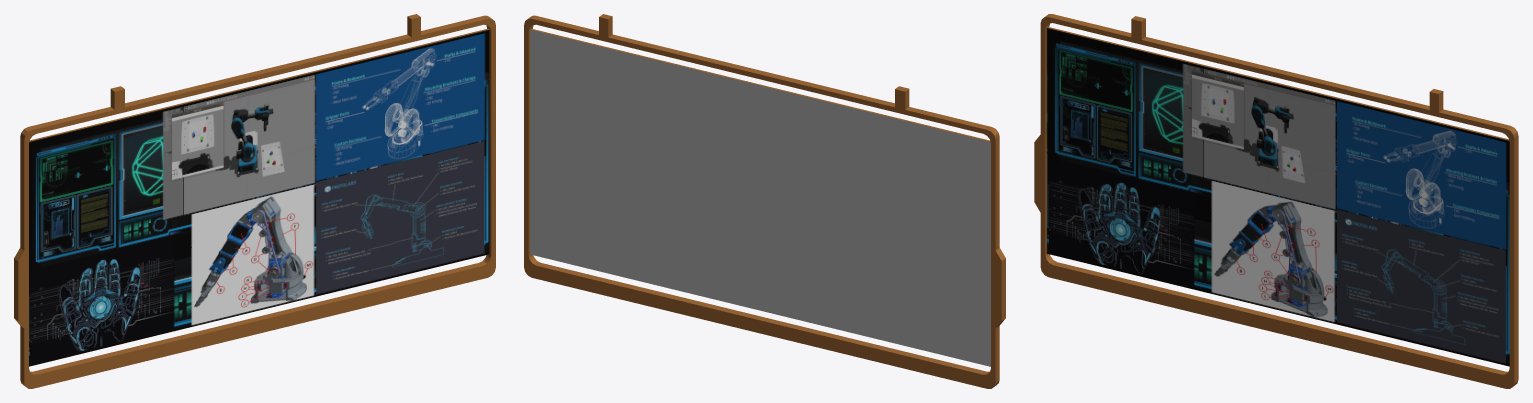
Rendered from MegaScreen.fbx.
3 views of the same model, side by side, from view 1: azimuth 30°, elevation 25°; view 2: azimuth 150°, elevation 25°; view 3: azimuth 330°, elevation 25° (orthographic).
Parts seen in each view (by area): view 1: MegaScreen; view 2: MegaScreen; view 3: MegaScreen.
Boxes of the visible parts, x1=… form: MegaScreen: x1=14, y1=14, x2=495, y2=388; MegaScreen: x1=524, y1=14, x2=1005, y2=388; MegaScreen: x1=1034, y1=14, x2=1518, y2=388.
Bounding box in the file's own units: 639 × 354 × 9.65.
